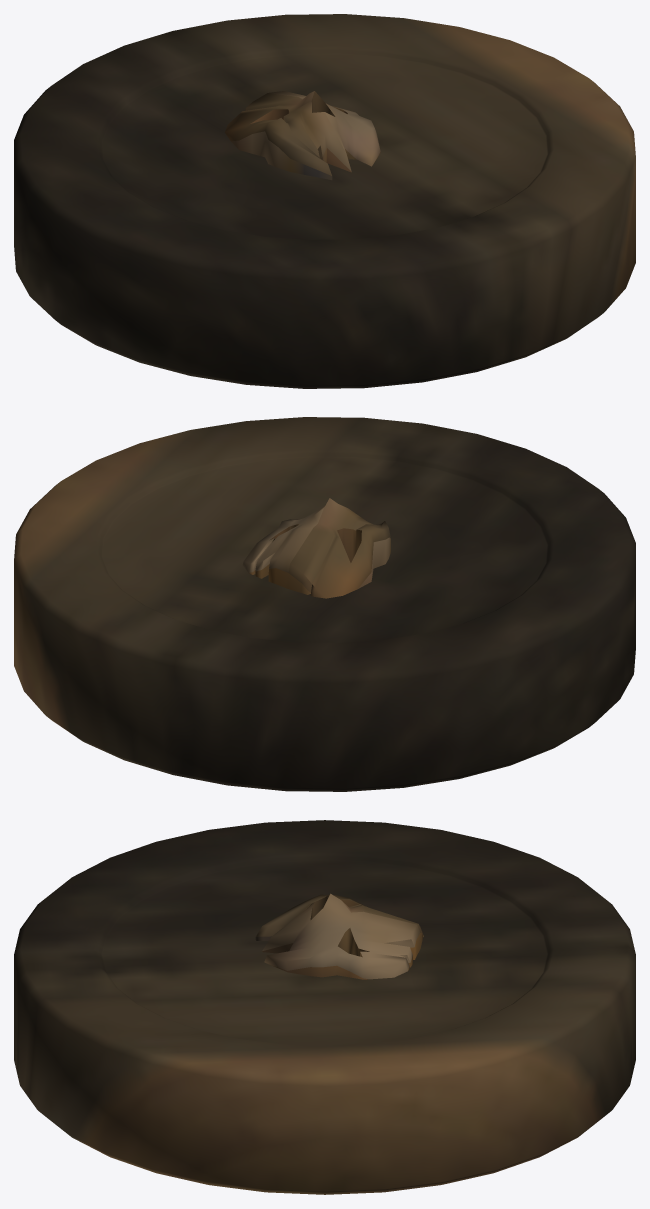
The model's file is spawnstart.fbx.
The picture shows the model from 3 angles, top to bottom: view 1: azimuth 30°, elevation 25°; view 2: azimuth 150°, elevation 25°; view 3: azimuth 270°, elevation 25°; orthographic projection.
Visible parts, largest first — view 1: spawnstart, decor_mask; view 2: spawnstart, decor_mask; view 3: spawnstart, decor_mask.
Part boxes in pixels (x1=…): spawnstart: x1=14, y1=14, x2=635, y2=388; decor_mask: x1=225, y1=91, x2=380, y2=180; spawnstart: x1=14, y1=417, x2=635, y2=791; decor_mask: x1=242, y1=498, x2=390, y2=598; spawnstart: x1=14, y1=820, x2=635, y2=1194; decor_mask: x1=255, y1=893, x2=423, y2=979.
Size of the model in its own units: 200 by 60.03 by 200.
2 materials, 2 textured.
